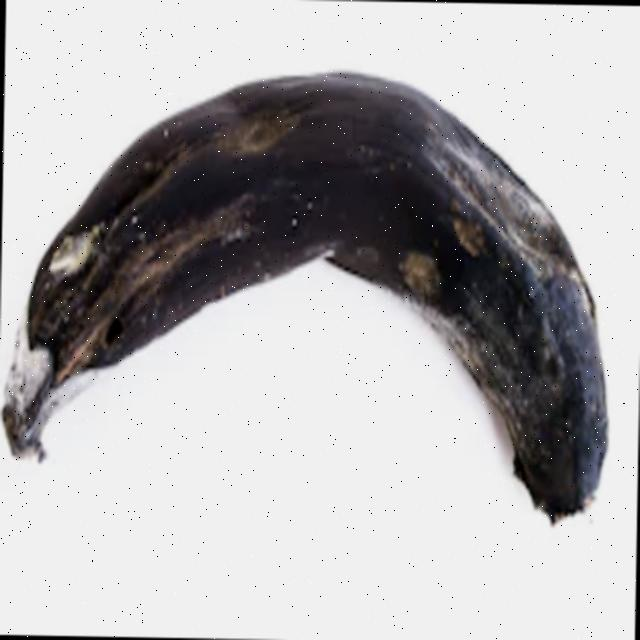Rotten: (0, 47, 623, 594)
